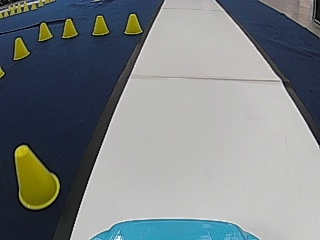cone: (13, 145, 58, 208), (124, 13, 142, 35), (12, 36, 29, 59), (92, 15, 109, 36), (61, 18, 78, 38), (37, 22, 52, 41)
